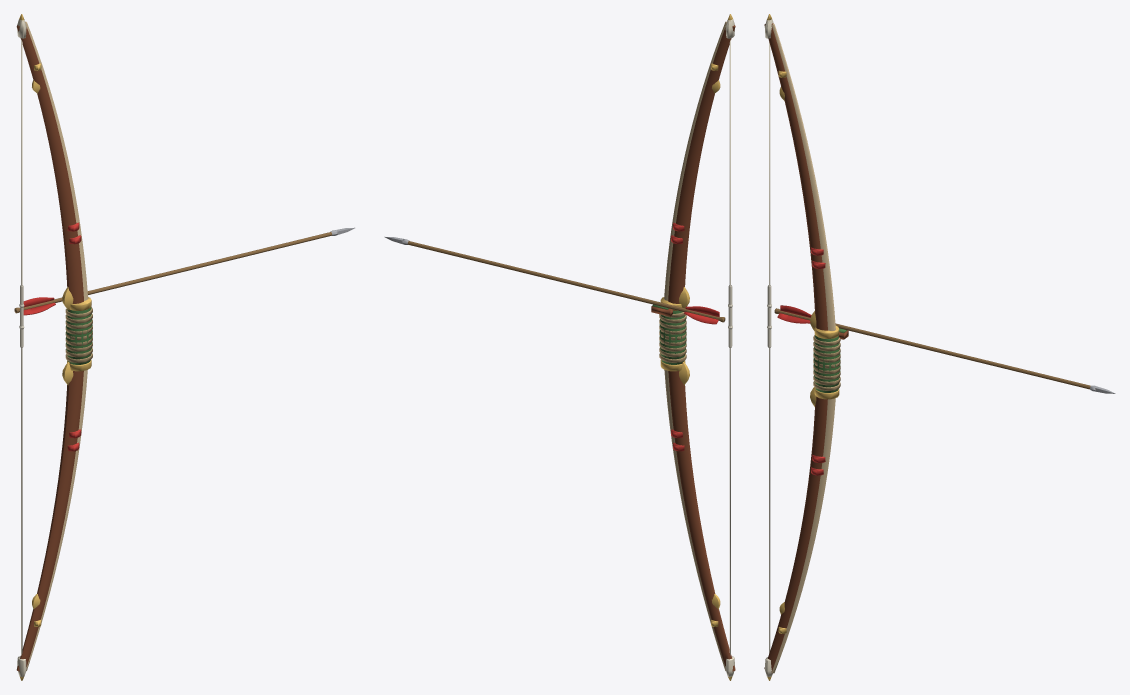
The model's file is gear_storybook_bow.glb.
The picture shows the model from 3 angles, left to right: view 1: azimuth 30°, elevation 25°; view 2: azimuth 150°, elevation 25°; view 3: azimuth 330°, elevation 25°; orthographic projection.
Visible parts, largest first — view 1: gear_storybook_bow; view 2: gear_storybook_bow; view 3: gear_storybook_bow.
Boxes of the visible parts, <box> form: gear_storybook_bow: <box>14,14,354,680</box>; gear_storybook_bow: <box>384,14,735,680</box>; gear_storybook_bow: <box>764,14,1115,680</box>.
Bounding box in the file's own units: 0.8702 × 1.61 × 0.0708.
